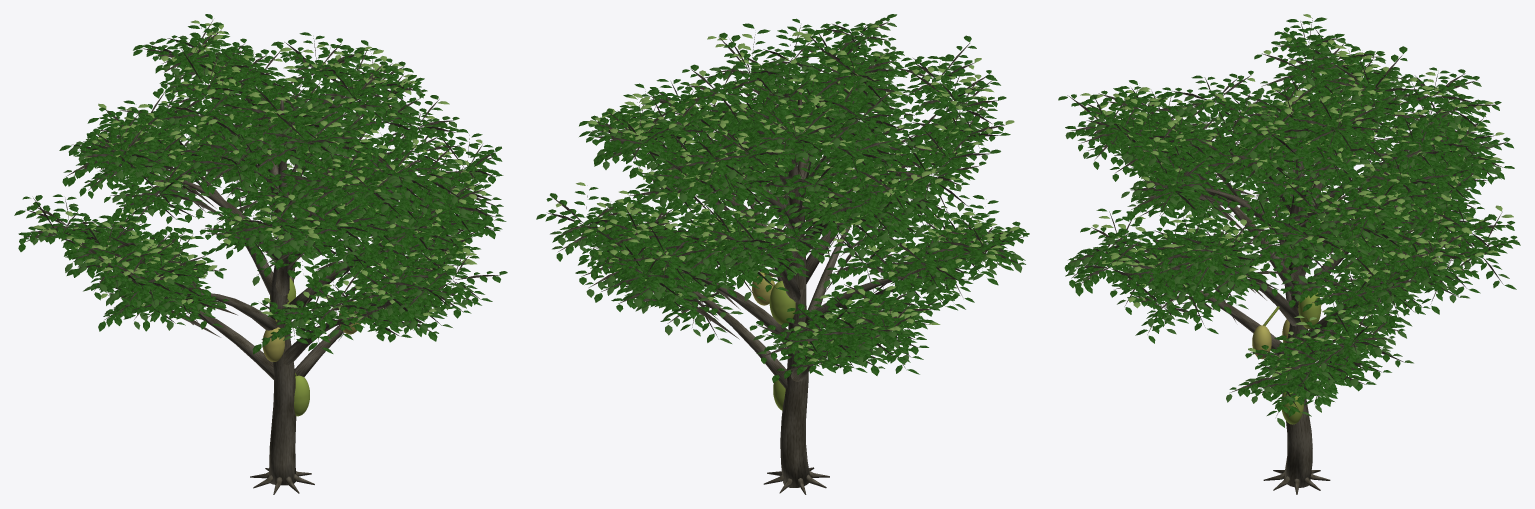
File: KL_LS_Jackfruit_Tree_LOD1.gltf
3 views of the same model, side by side, from view 1: azimuth 30°, elevation 25°; view 2: azimuth 150°, elevation 25°; view 3: azimuth 270°, elevation 25° (orthographic). The views are drawn at different scales.
Visible parts, largest first — view 1: TF3_KL_LS_Jackfruit_Tree_LOD1; view 2: TF3_KL_LS_Jackfruit_Tree_LOD1; view 3: TF3_KL_LS_Jackfruit_Tree_LOD1.
Boxes of the visible parts, x1,y1,x2,y2 form: TF3_KL_LS_Jackfruit_Tree_LOD1: (14,14,507,494); TF3_KL_LS_Jackfruit_Tree_LOD1: (536,14,1029,494); TF3_KL_LS_Jackfruit_Tree_LOD1: (1058,14,1520,494).
Size of the model in its own units: 9.36 by 8.42 by 8.6.
Materials: 7 (2 with a texture image).
